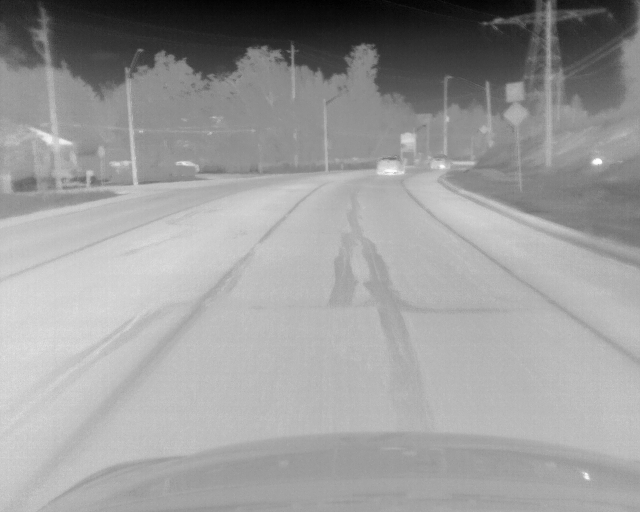car: (374, 155, 406, 176), (173, 160, 199, 176), (428, 154, 452, 170)
